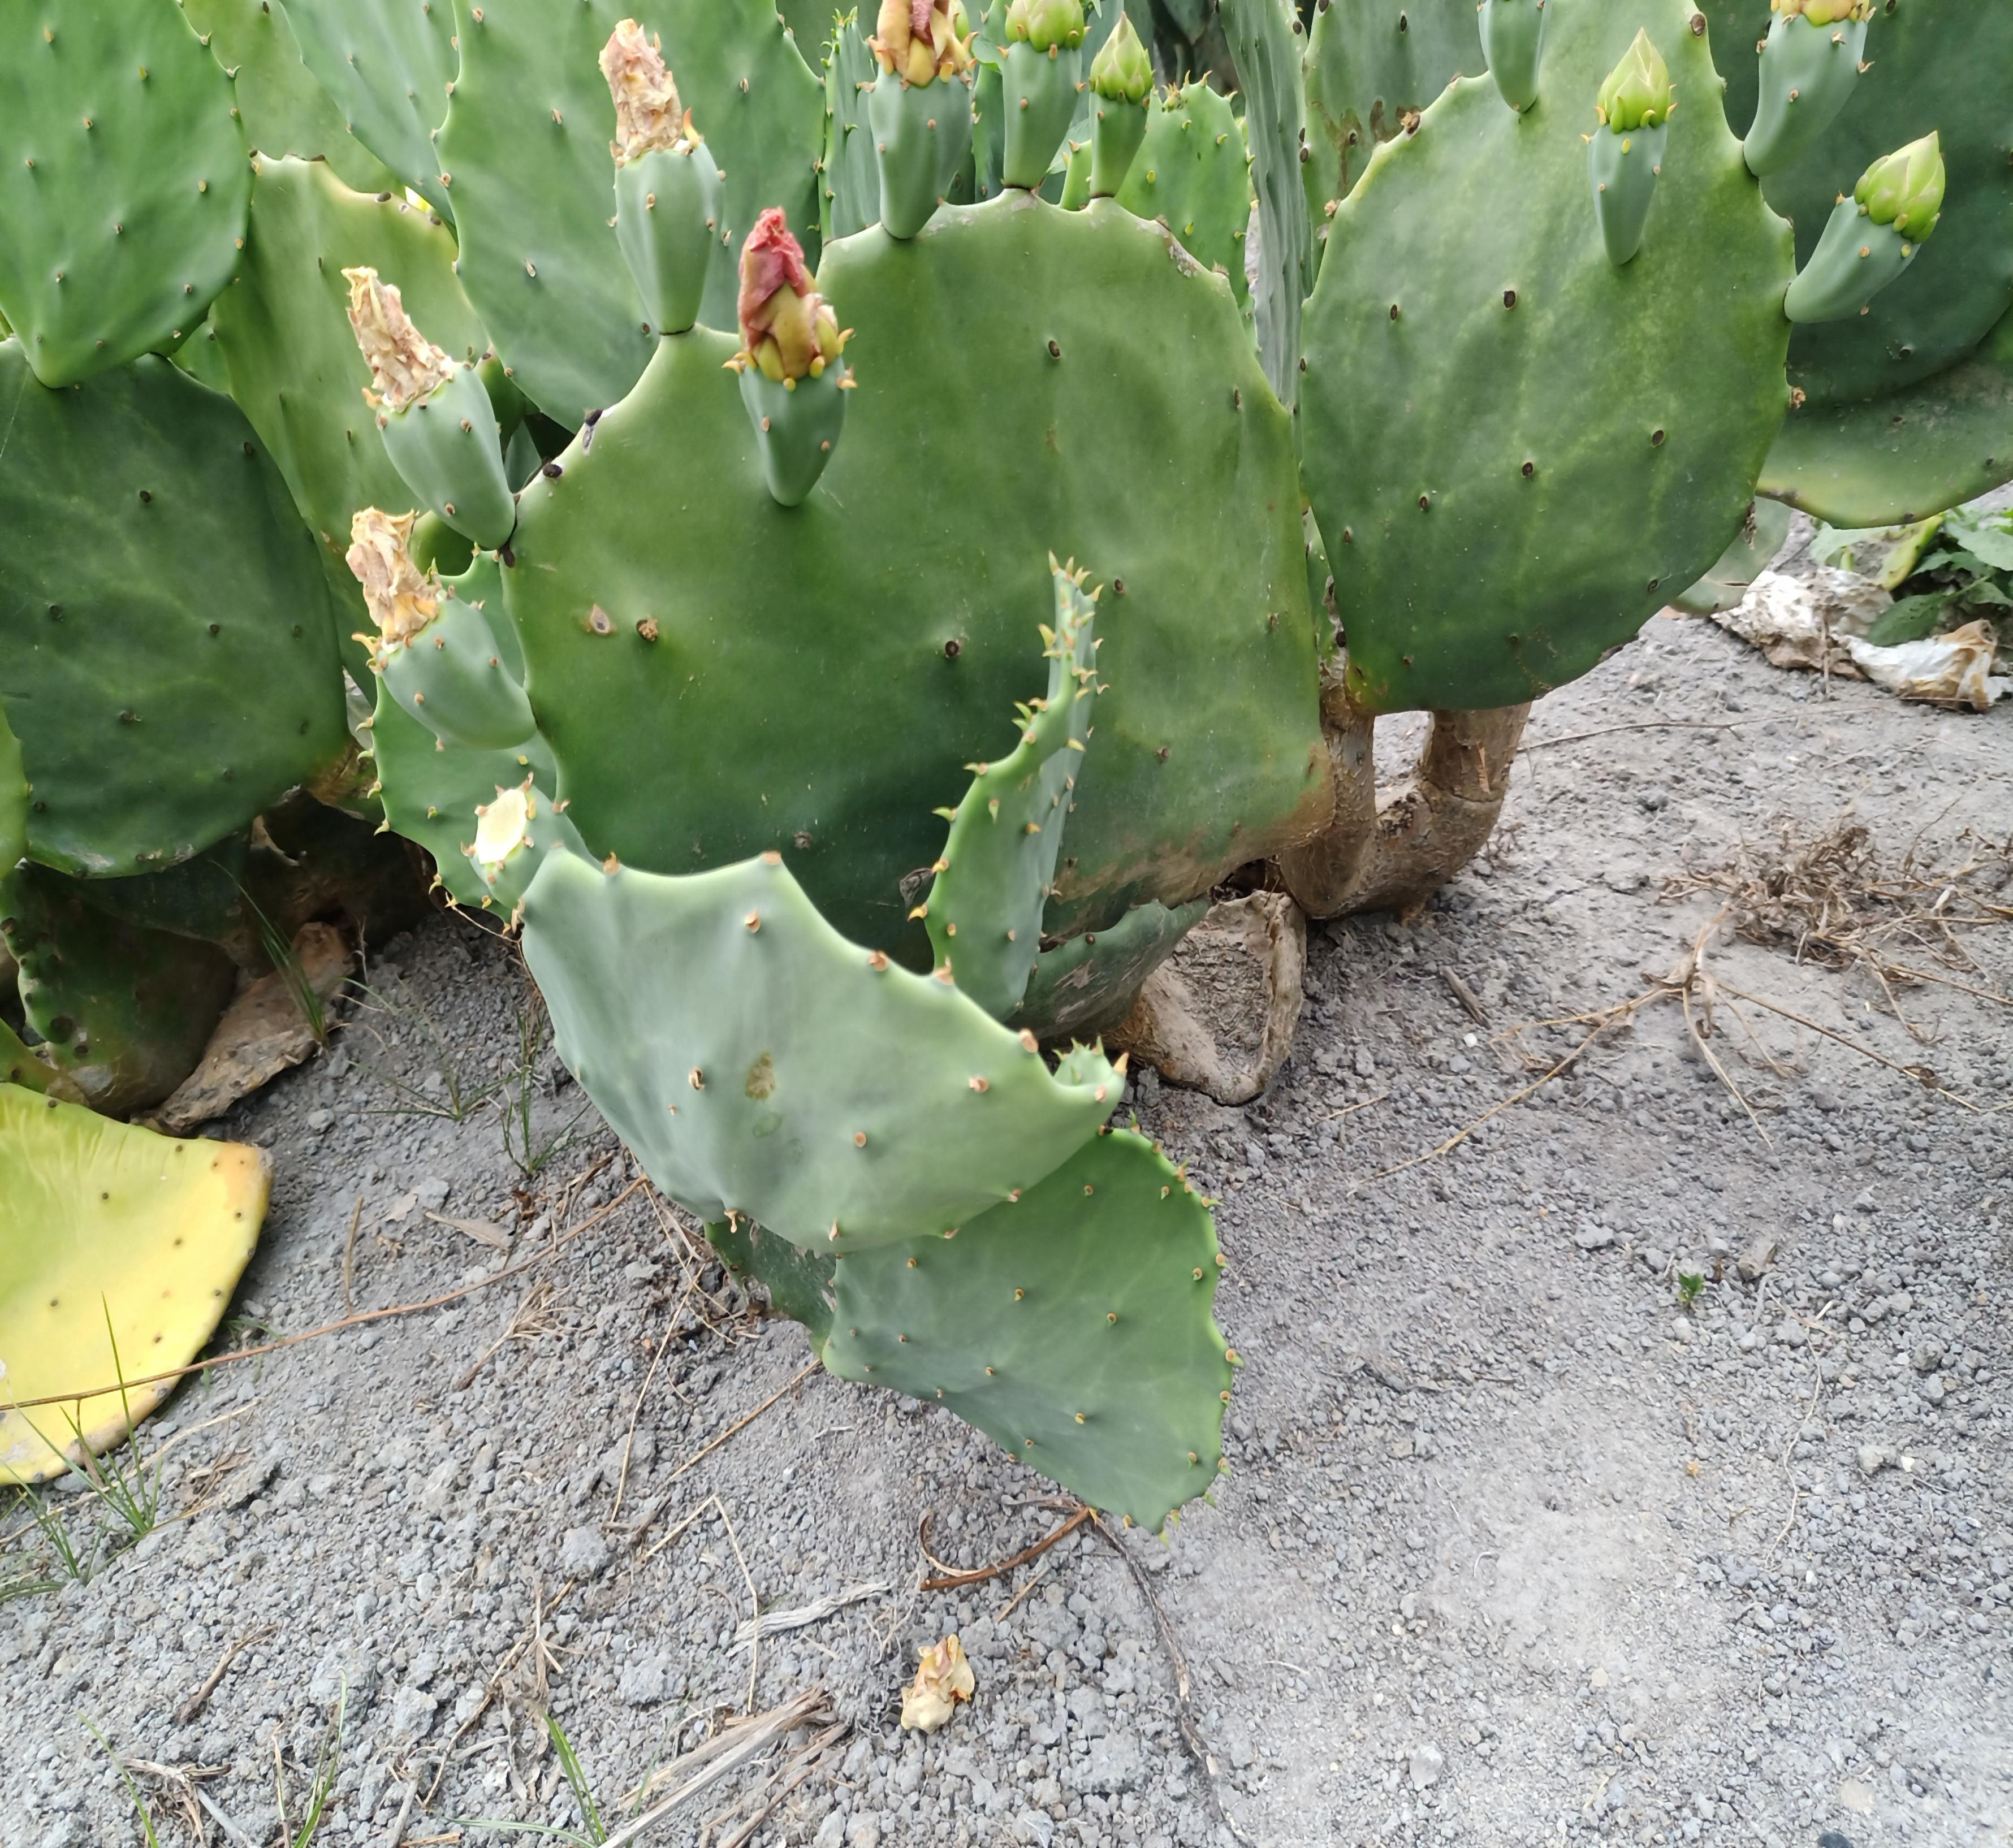impropria: (516, 857, 1134, 1261), (815, 1124, 1241, 1570), (5, 1, 252, 380), (289, 1, 460, 189)
propria: (442, 172, 1318, 964), (1290, 9, 1833, 716), (1, 335, 339, 893), (434, 3, 833, 421)
